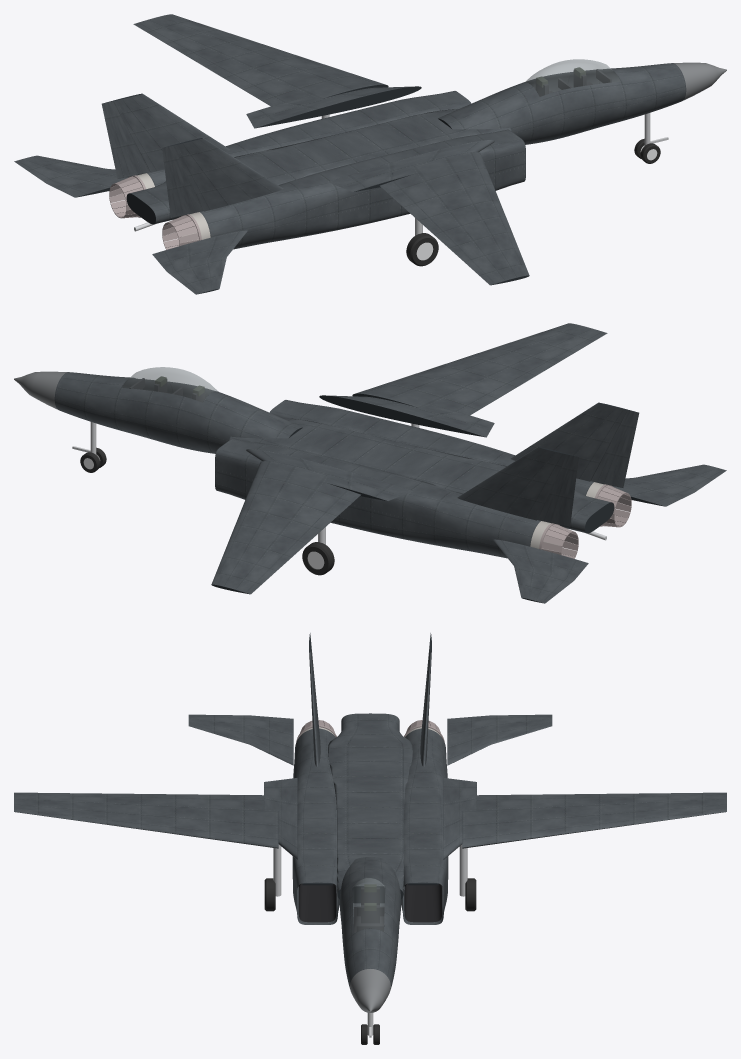
3 views of the same model, one above another, from view 1: azimuth 30°, elevation 25°; view 2: azimuth 150°, elevation 25°; view 3: azimuth 270°, elevation 25° (orthographic).
Parts seen in each view (by area): view 1: gondola.derecha, fuselaje.delantero, ala.derecha, ala.izquierda, fuselaje.central, gondola.izquierda, deriva.derecha, deriva.izquierda, estabilizador.derecho, guante.izquierdo, estabilizador.izquierdo, guante.derecho (+7 smaller); view 2: gondola.izquierda, fuselaje.delantero, ala.izquierda, ala.derecha, fuselaje.central, gondola.derecha, deriva.izquierda, deriva.derecha, estabilizador.izquierdo, guante.derecho, estabilizador.derecho, guante.izquierdo (+7 smaller); view 3: fuselaje.central, ala.derecha, ala.izquierda, gondola.izquierda, gondola.derecha, fuselaje.delantero, estabilizador.derecho, estabilizador.izquierdo, guante.derecho, guante.izquierdo, cabina, radomo (+5 smaller).
Boxes of the visible parts, left/top/right/bottom form: gondola.derecha: left=200, top=129, right=525, bottom=249; fuselaje.delantero: left=438, top=63, right=686, bottom=144; ala.derecha: left=380, top=152, right=529, bottom=285; ala.izquierda: left=133, top=14, right=388, bottom=106; fuselaje.central: left=126, top=109, right=511, bottom=224; gondola.izquierda: left=137, top=91, right=471, bottom=186; deriva.derecha: left=173, top=138, right=283, bottom=211; deriva.izquierda: left=113, top=93, right=229, bottom=172; estabilizador.derecho: left=152, top=230, right=247, bottom=294; guante.izquierdo: left=246, top=86, right=421, bottom=128; estabilizador.izquierdo: left=14, top=155, right=136, bottom=197; guante.derecho: left=328, top=140, right=494, bottom=191; gondola.izquierda: left=215, top=438, right=540, bottom=558; fuselaje.delantero: left=54, top=372, right=302, bottom=453; ala.izquierda: left=211, top=461, right=360, bottom=594; ala.derecha: left=352, top=323, right=607, bottom=415; fuselaje.central: left=229, top=418, right=614, bottom=533; gondola.derecha: left=269, top=400, right=603, bottom=495; deriva.izquierda: left=457, top=447, right=567, bottom=520; deriva.derecha: left=511, top=402, right=627, bottom=481; estabilizador.izquierdo: left=493, top=539, right=588, bottom=603; guante.derecho: left=319, top=395, right=494, bottom=437; estabilizador.derecho: left=604, top=464, right=726, bottom=506; guante.izquierdo: left=246, top=449, right=412, bottom=500; fuselaje.central: left=328, top=713, right=412, bottom=903; ala.derecha: left=14, top=792, right=278, bottom=848; ala.izquierda: left=462, top=792, right=726, bottom=848; gondola.izquierda: left=401, top=728, right=448, bottom=924; gondola.derecha: left=292, top=728, right=339, bottom=924; fuselaje.delantero: left=339, top=857, right=401, bottom=988; estabilizador.derecho: left=188, top=714, right=293, bottom=765; estabilizador.izquierdo: left=447, top=714, right=552, bottom=765; guante.derecho: left=264, top=778, right=297, bottom=859; guante.izquierdo: left=443, top=778, right=476, bottom=859; cabina: left=352, top=878, right=385, bottom=932; radomo: left=350, top=969, right=390, bottom=1012.
Bounding box in the file's own units: 19.65 × 4.85 × 19.54.
15 materials, 1 textured.
